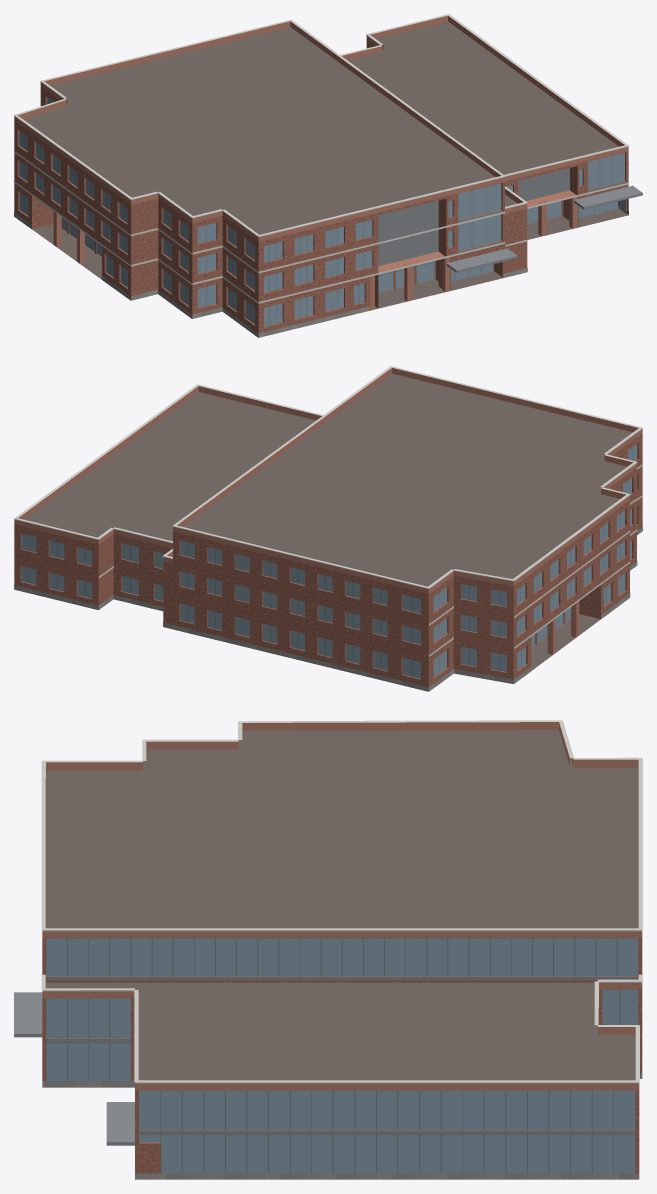
The picture shows the model from 3 angles, top to bottom: view 1: azimuth 30°, elevation 25°; view 2: azimuth 150°, elevation 25°; view 3: azimuth 270°, elevation 25°; orthographic projection. The views are drawn at different scales.
Parts seen in each view (by area): view 1: studentUnion__roof, studentUnion__wall, studentUnion__glass, studentUnion__parapet, studentUnion__trim, studentUnion__wall2, studentUnion__column, studentUnion__base, studentUnion__canopy, studentUnion__frame, studentUnion__soffit; view 2: studentUnion__roof, studentUnion__wall, studentUnion__glass, studentUnion__parapet, studentUnion__trim, studentUnion__base, studentUnion__frame, studentUnion__column; view 3: studentUnion__roof, studentUnion__glass, studentUnion__parapet, studentUnion__trim, studentUnion__wall, studentUnion__frame, studentUnion__spandrel, studentUnion__base, studentUnion__canopy.
Boxes of the visible parts, bbox=[...] form: studentUnion__roof: bbox=[23, 21, 628, 310]; studentUnion__wall: bbox=[14, 40, 628, 337]; studentUnion__glass: bbox=[19, 98, 625, 326]; studentUnion__parapet: bbox=[14, 16, 628, 241]; studentUnion__trim: bbox=[14, 14, 628, 303]; studentUnion__wall2: bbox=[378, 168, 569, 265]; studentUnion__column: bbox=[53, 193, 577, 310]; studentUnion__base: bbox=[14, 211, 628, 337]; studentUnion__canopy: bbox=[446, 185, 642, 272]; studentUnion__frame: bbox=[24, 134, 612, 325]; studentUnion__soffit: bbox=[378, 190, 575, 272]; studentUnion__roof: bbox=[24, 373, 632, 670]; studentUnion__wall: bbox=[14, 433, 642, 691]; studentUnion__glass: bbox=[21, 444, 637, 678]; studentUnion__parapet: bbox=[14, 368, 642, 593]; studentUnion__trim: bbox=[14, 366, 642, 656]; studentUnion__base: bbox=[14, 527, 642, 691]; studentUnion__frame: bbox=[29, 447, 632, 676]; studentUnion__column: bbox=[547, 601, 579, 654]; studentUnion__roof: bbox=[45, 730, 638, 1080]; studentUnion__glass: bbox=[46, 938, 638, 1173]; studentUnion__parapet: bbox=[42, 722, 642, 1089]; studentUnion__trim: bbox=[41, 720, 642, 1083]; studentUnion__wall: bbox=[42, 937, 642, 1173]; studentUnion__frame: bbox=[46, 938, 634, 1173]; studentUnion__spandrel: bbox=[46, 976, 638, 1134]; studentUnion__base: bbox=[42, 1072, 642, 1179]; studentUnion__canopy: bbox=[14, 992, 134, 1145].
Bounding box in the file's own units: 64.3 × 13.37 × 53.44.
12 materials, 2 textured.
